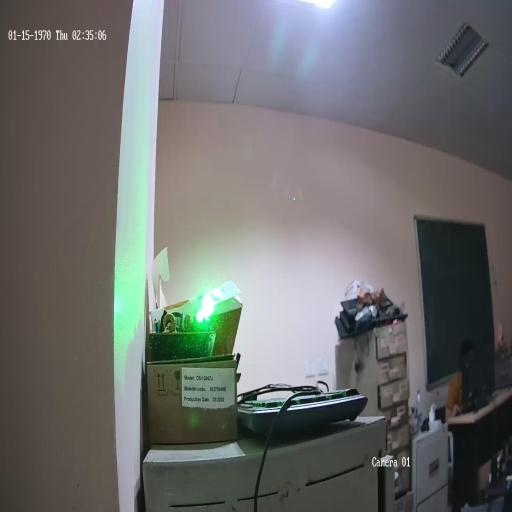laser: (195, 281, 217, 327)
